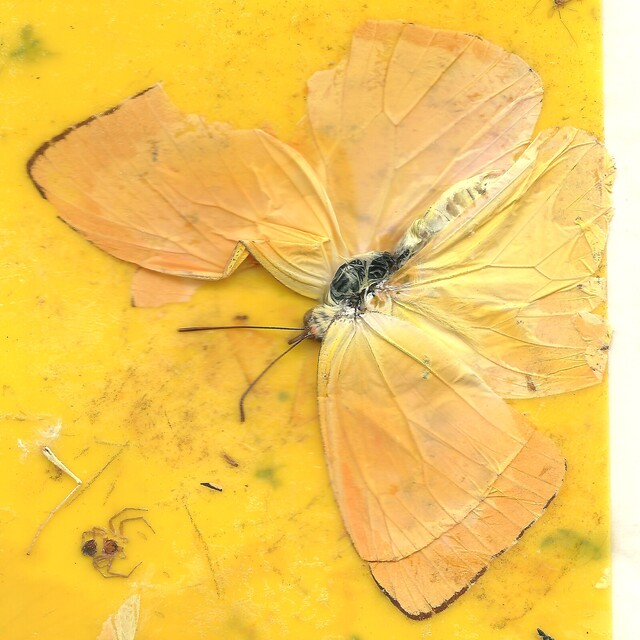Araneae: (80, 507, 156, 579)
Lepidoptera: (22, 20, 618, 620)
